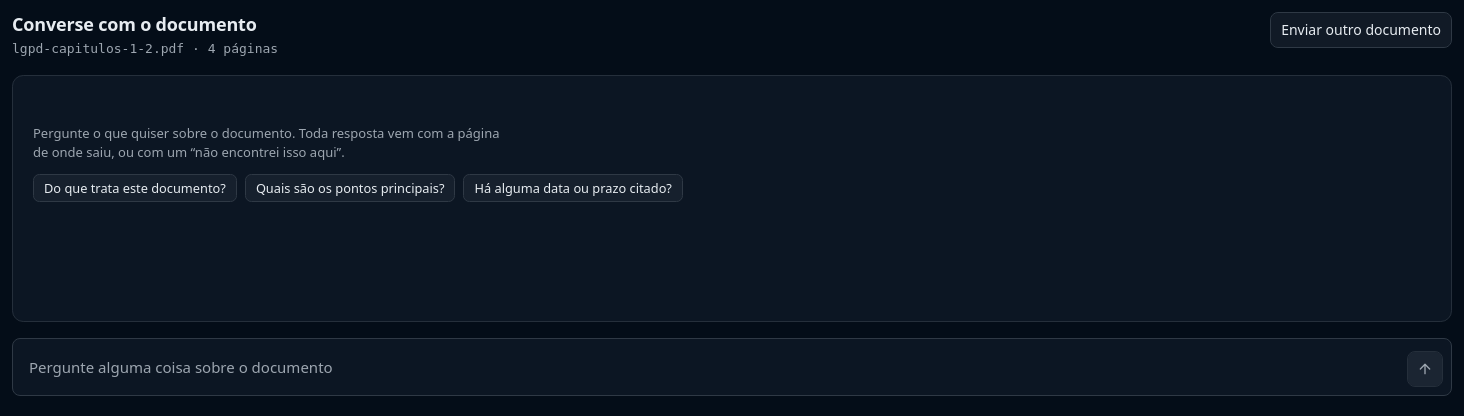
ChatView › envia com Enter e quebra linha com Shift+Enter
The width and height of the screenshot is (1464, 416).
Click the text box named "Sua pergunta sobre o documento".
click(710, 367)  # box [21,347,1399,387]
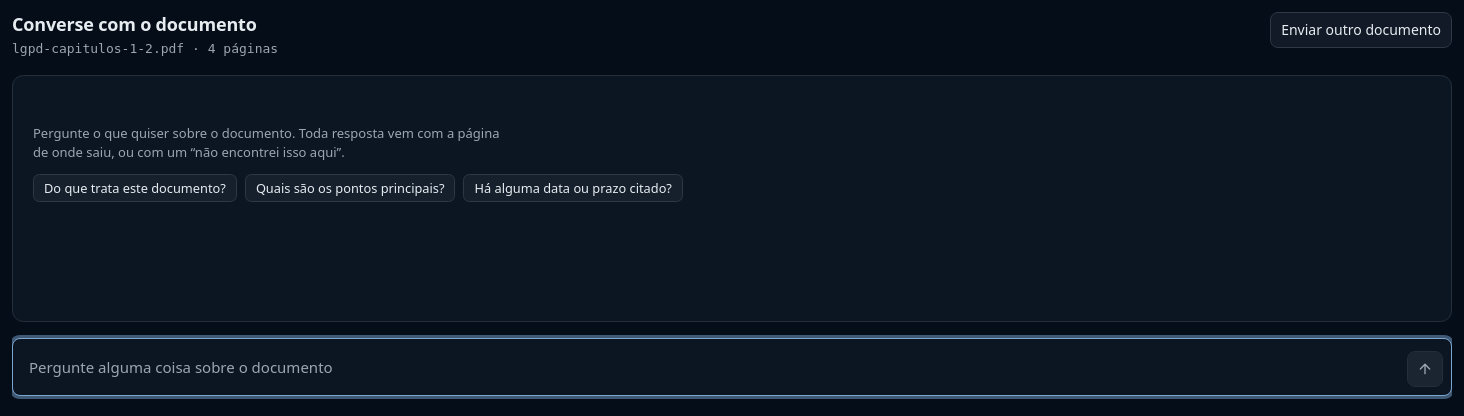
Type keys "primeira linha{Shift>}{Enter}{/Shift}segunda linha"
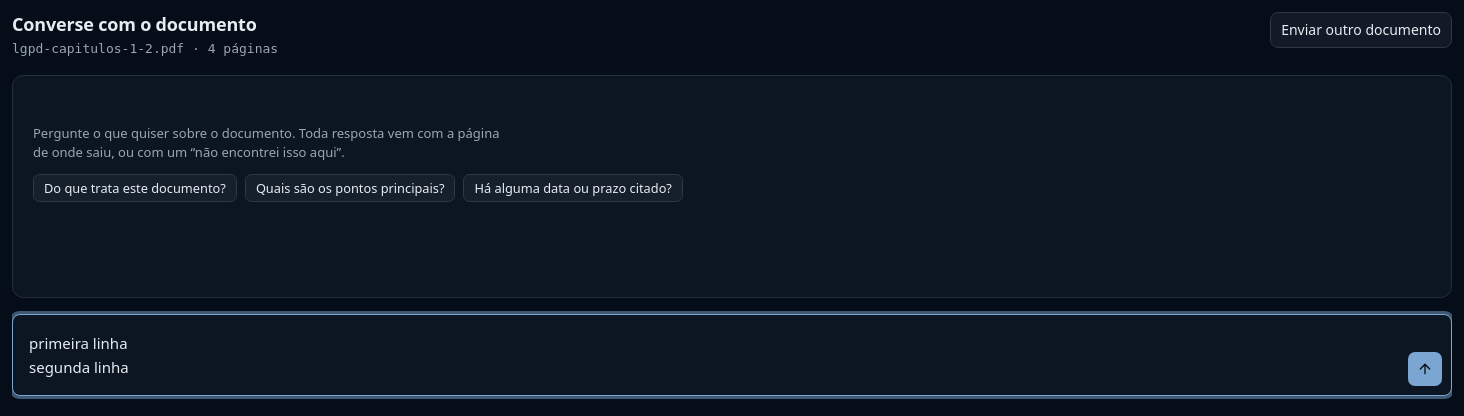
Press Enter
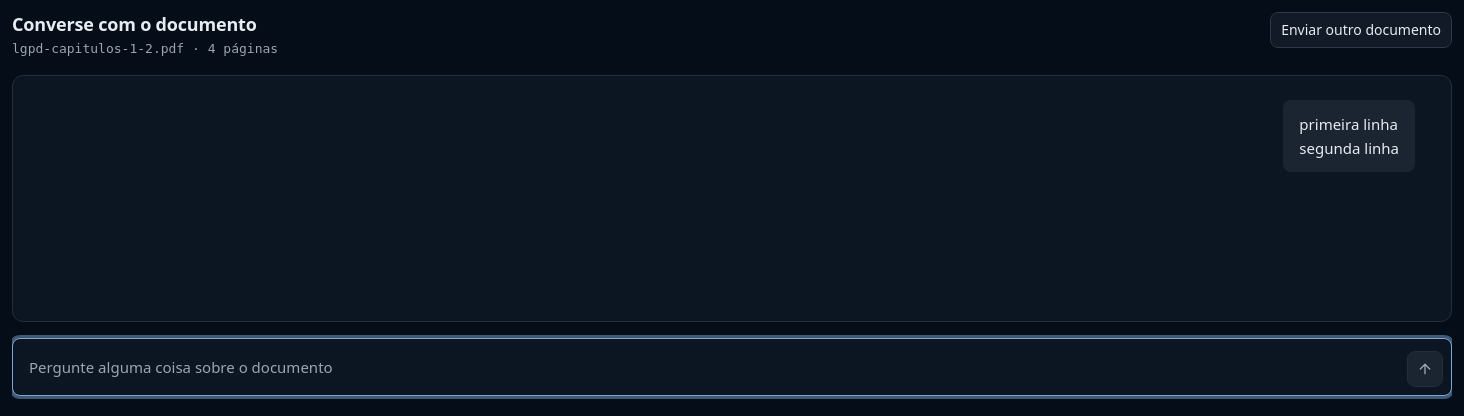
Now the text box named "Sua pergunta sobre o documento" is empty, box [21,347,1399,387]
Now the text "primeira linha segunda linha" is shown, box [1283,100,1415,172]
